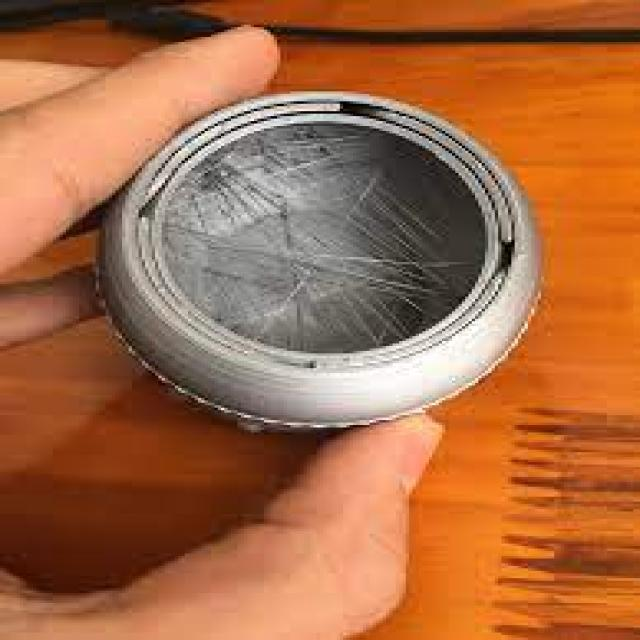Stringing: (196, 214, 319, 287), (347, 244, 458, 314), (180, 144, 314, 200), (332, 153, 414, 228), (231, 307, 348, 357)
